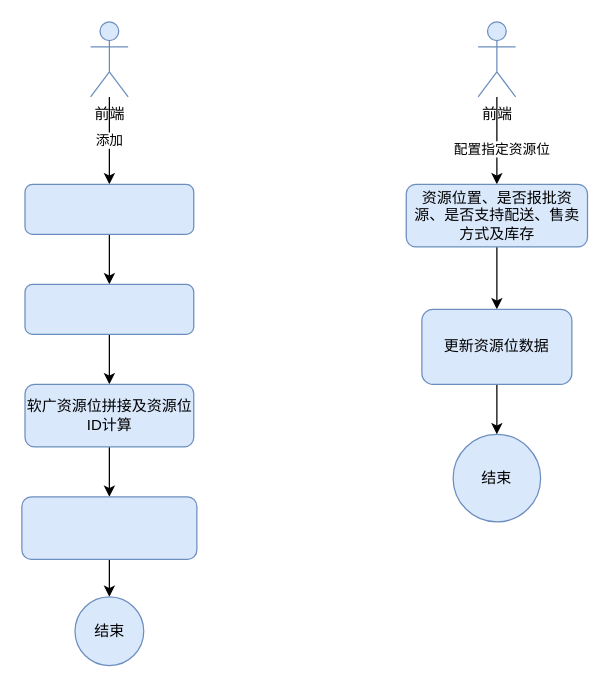
Image size: 610x688. Some labels were removed from this diagram. Each missing label, with the centre of its shape:
新增资源位数据入库: (109,527)
新增软广三级级联数据: (109,308)
资源位（资源分类、投放平台、投放形式）: (109,208)
